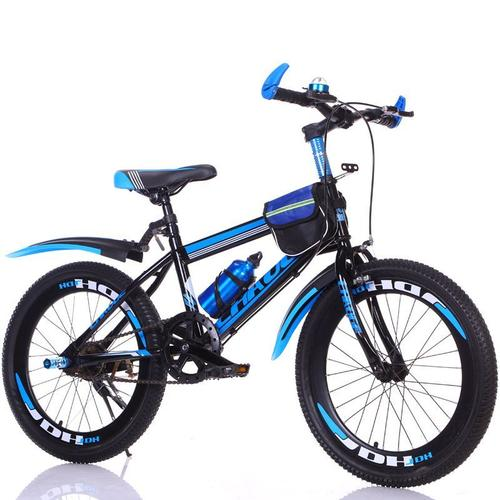单车: (1, 63, 500, 489)
